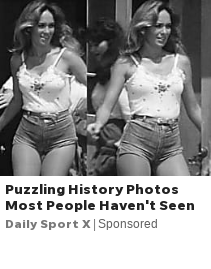fake_button: (96, 216, 160, 237)
